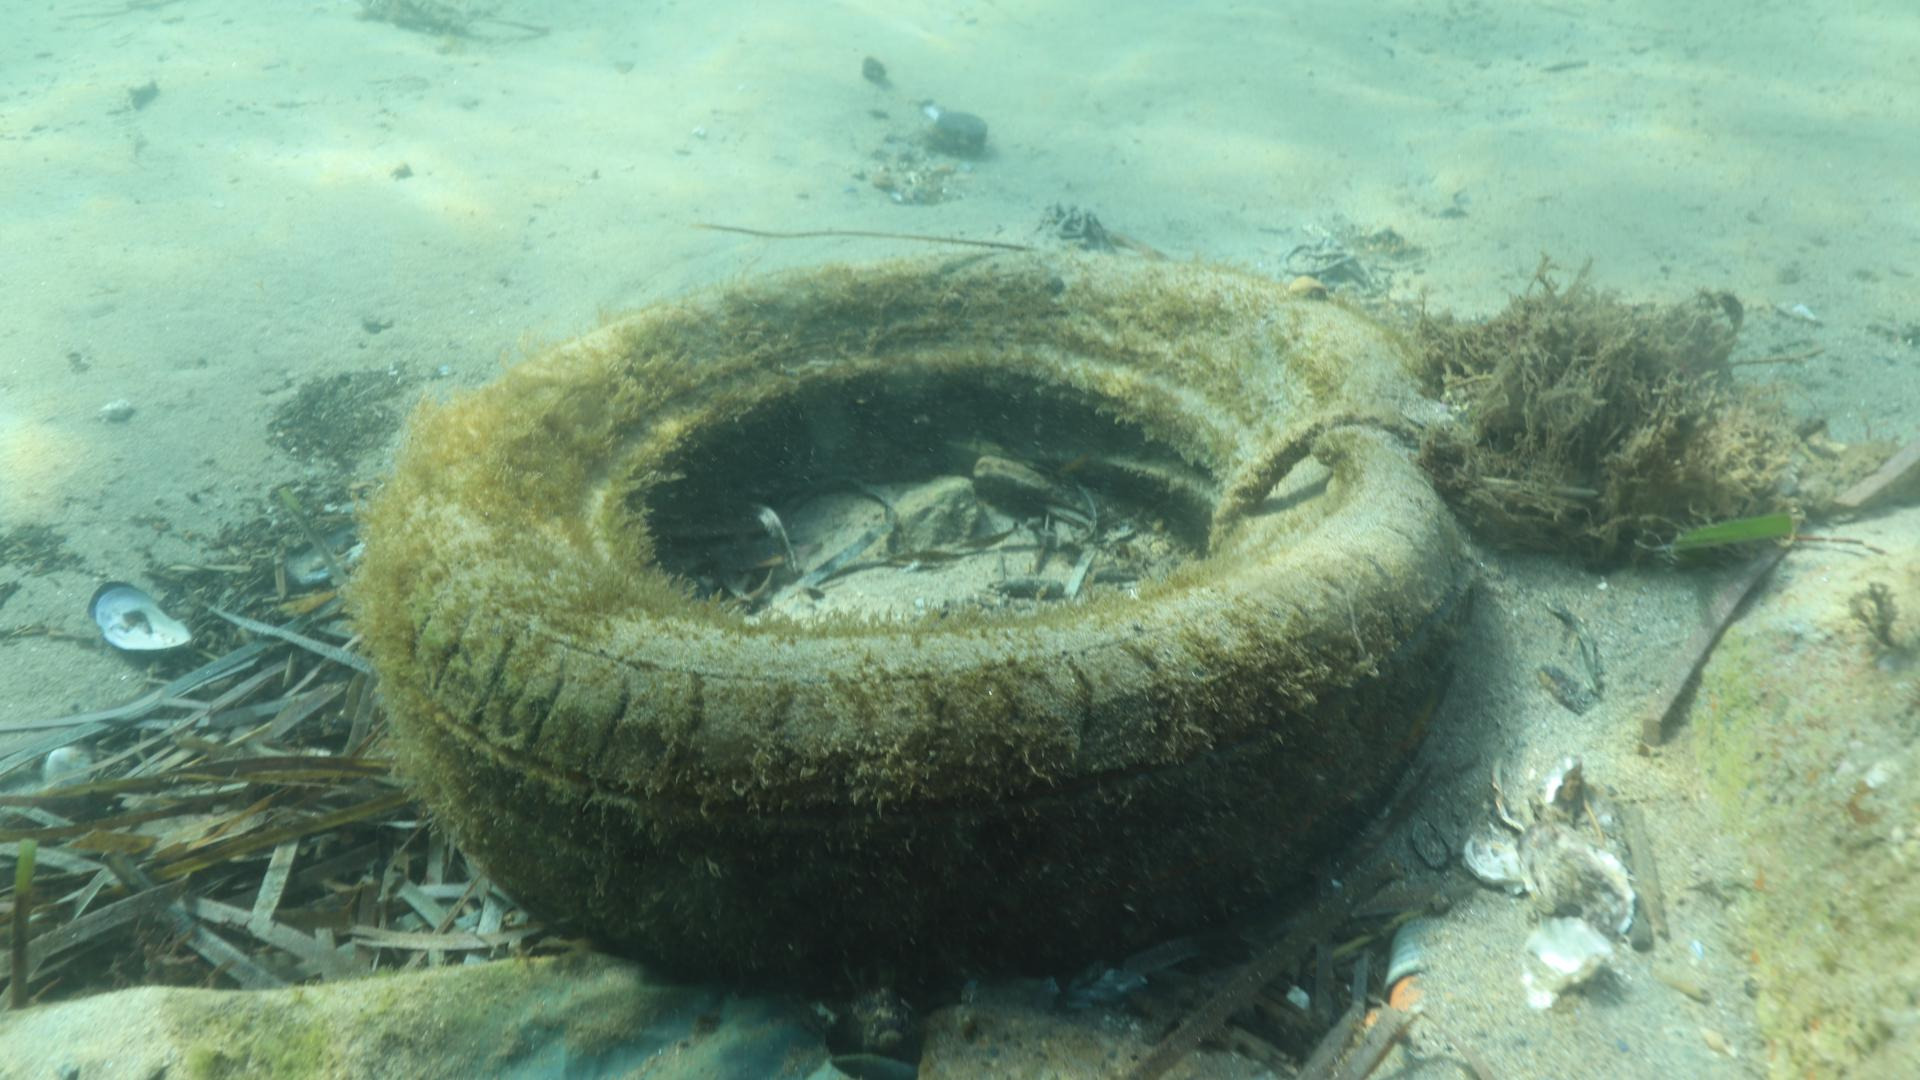rope: (1207, 404, 1419, 549)
tire: (375, 247, 1478, 996)
